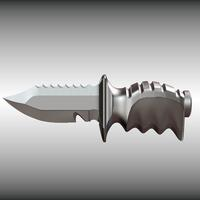knife: (4, 75, 197, 139)
